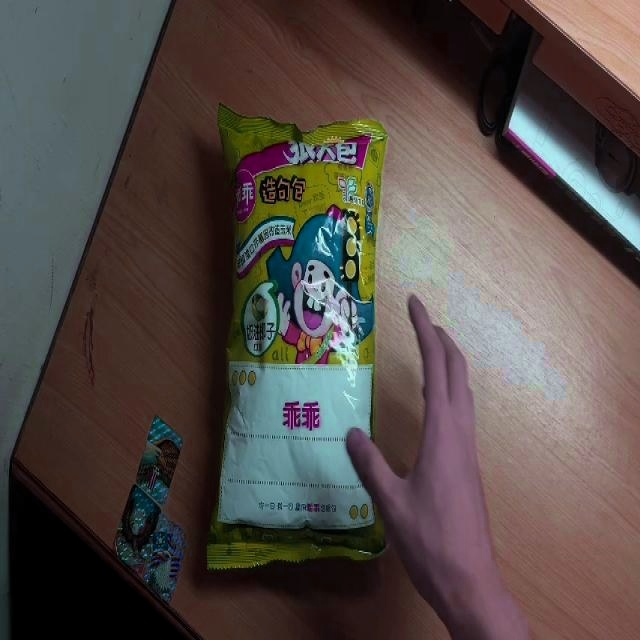Good-Luck: (204, 99, 391, 576)
